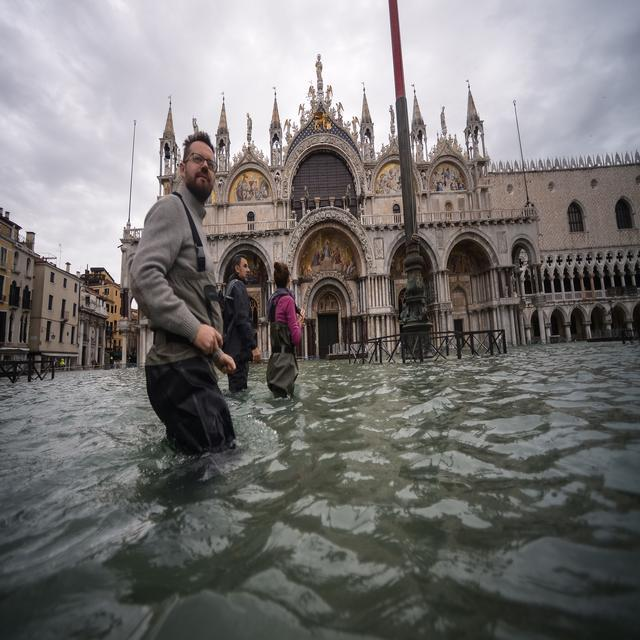Person-RiskLevel2: (119, 127, 250, 462), (260, 261, 326, 406), (210, 245, 261, 394)
